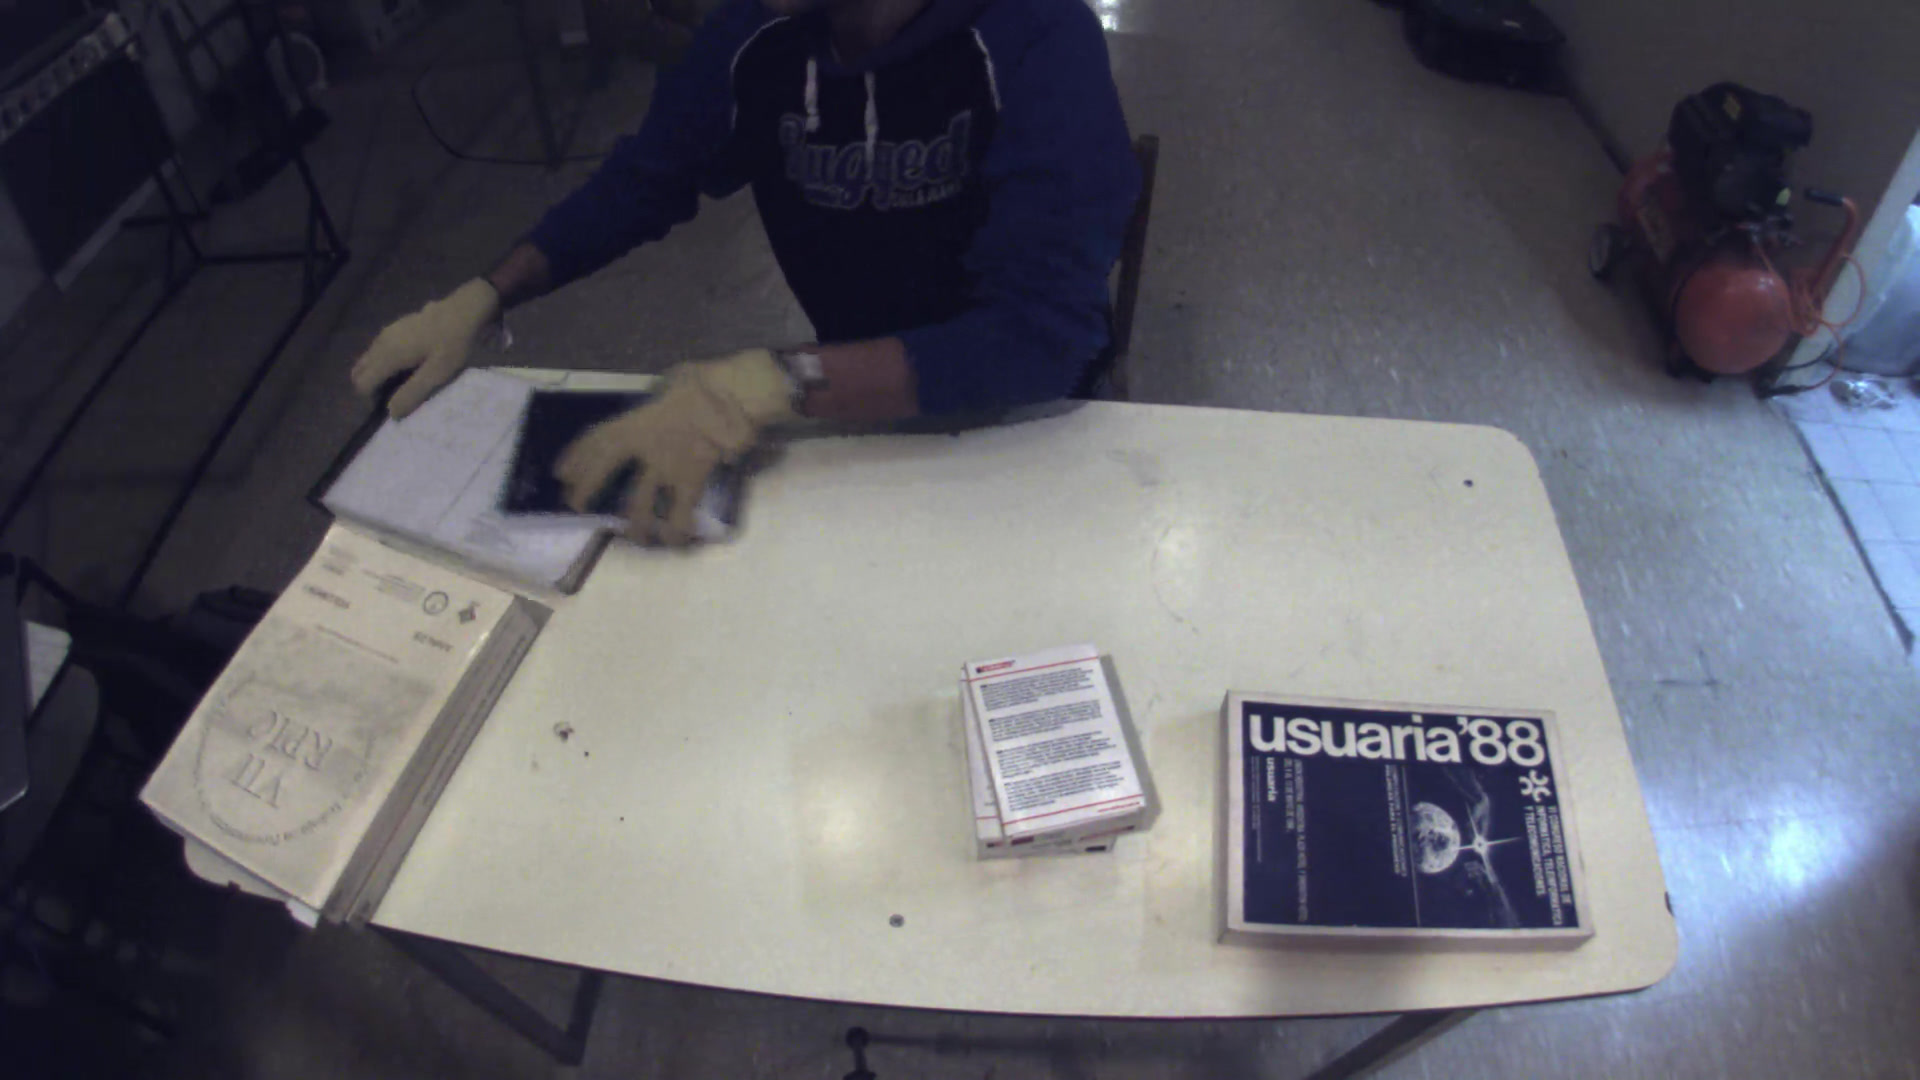hand: (538, 342, 785, 555), (338, 266, 498, 429)
